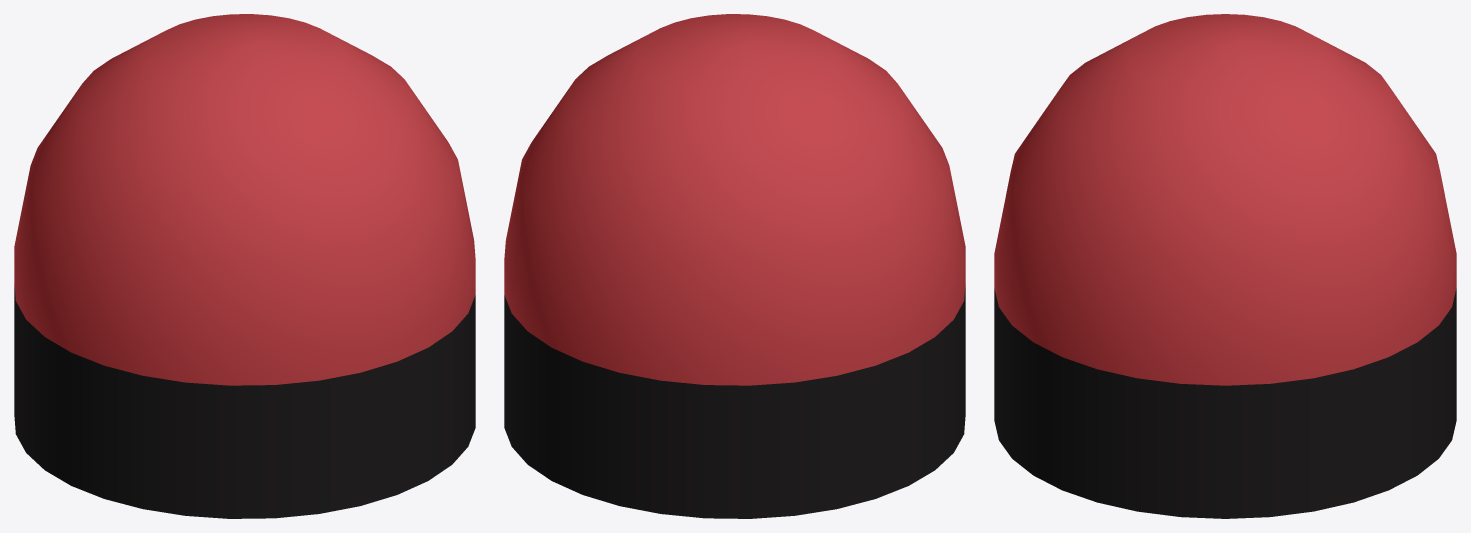
File: Alarma (1).fbx
3 views of the same model, side by side, from view 1: azimuth 30°, elevation 25°; view 2: azimuth 150°, elevation 25°; view 3: azimuth 270°, elevation 25° (orthographic).
Parts seen in each view (by area): view 1: Cylinder, Cylinder.001; view 2: Cylinder, Cylinder.001; view 3: Cylinder, Cylinder.001.
Part boxes in pixels (x1,y1,x2,y2): Cylinder: [14, 14, 475, 385]; Cylinder.001: [14, 284, 475, 518]; Cylinder: [504, 14, 965, 385]; Cylinder.001: [504, 284, 965, 518]; Cylinder: [994, 14, 1456, 385]; Cylinder.001: [994, 288, 1456, 518].
Bounding box in the file's own units: 10 × 9.12 × 10.
